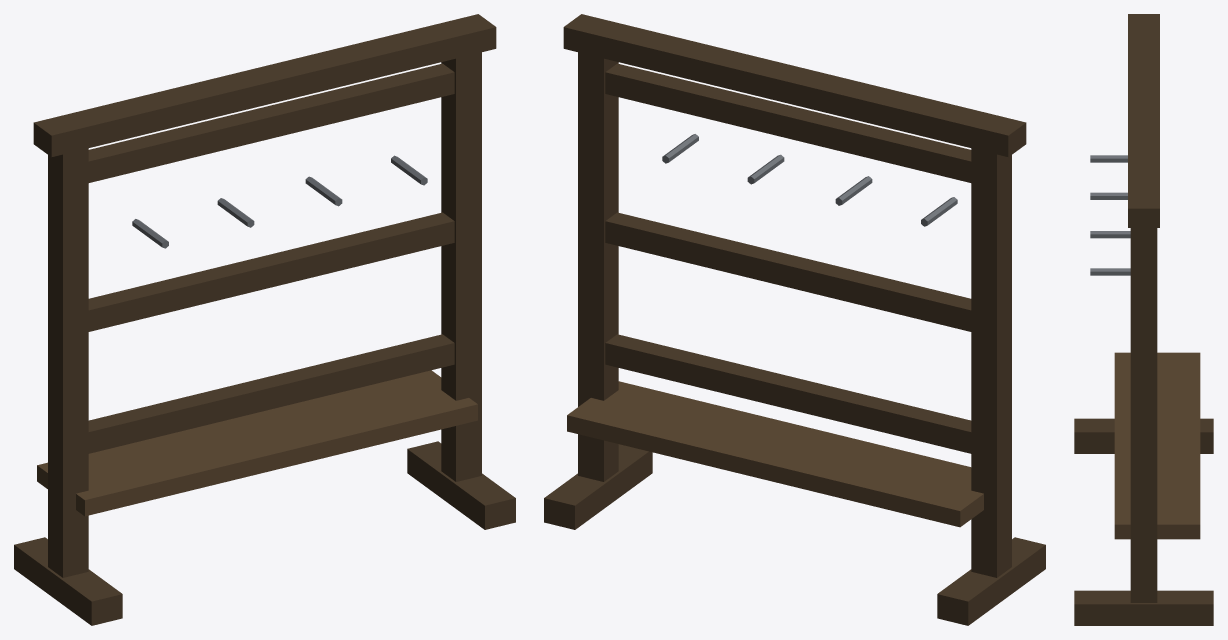
File: LairWeaponRack.fbx
3 renders of one model, left to right at view 1: azimuth 30°, elevation 25°; view 2: azimuth 150°, elevation 25°; view 3: azimuth 270°, elevation 25°, orthographic. The views are drawn at different scales.
Visible parts, largest first — view 1: LairWeaponRack; view 2: LairWeaponRack; view 3: LairWeaponRack.
Part boxes in pixels (x1,y1,x2,y2): LairWeaponRack: [14, 14, 515, 625]; LairWeaponRack: [544, 14, 1045, 625]; LairWeaponRack: [1074, 14, 1213, 625].
Size of the model in its own units: 172 by 174 by 52.
Materials: 3 (3 with a texture image).
